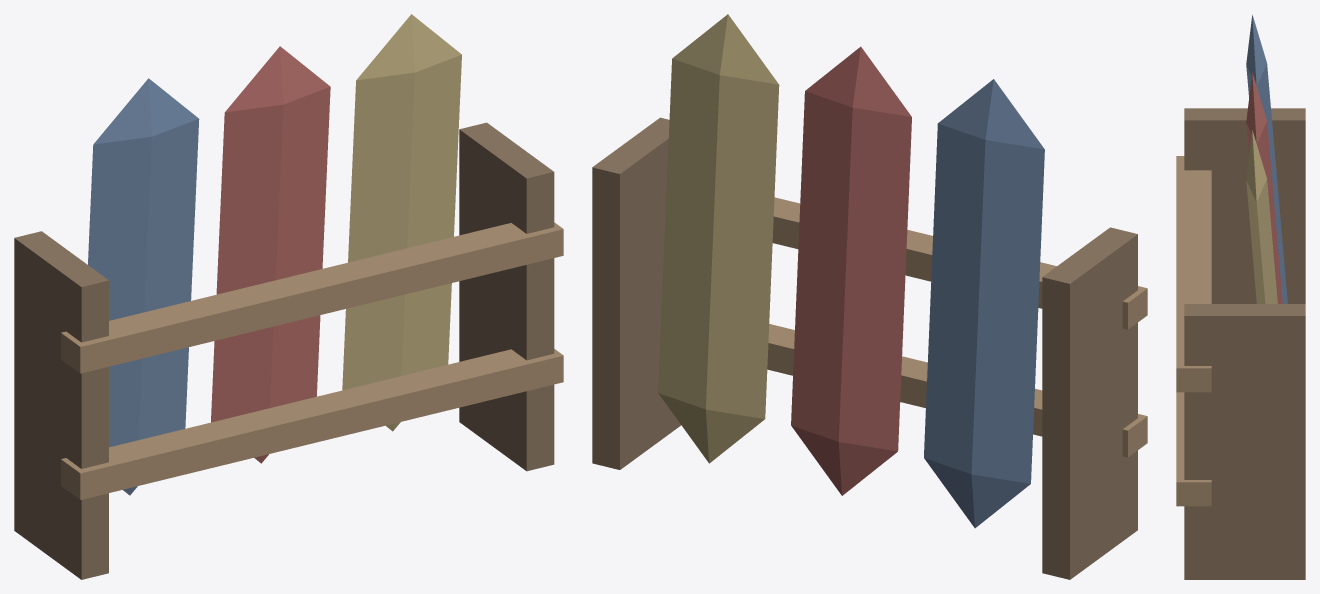
3 renders of one model, left to right at view 1: azimuth 30°, elevation 25°; view 2: azimuth 150°, elevation 25°; view 3: azimuth 270°, elevation 25°, orthographic. The views are drawn at different scales.
Parts seen in each view (by area): view 1: structure.surf_rack; view 2: structure.surf_rack; view 3: structure.surf_rack.
Part boxes in pixels (x1,y1,x2,y2): structure.surf_rack: [14, 14, 563, 579]; structure.surf_rack: [592, 14, 1147, 579]; structure.surf_rack: [1176, 14, 1305, 579].
Size of the model in its own units: 2.28 by 2.02 by 0.585.
